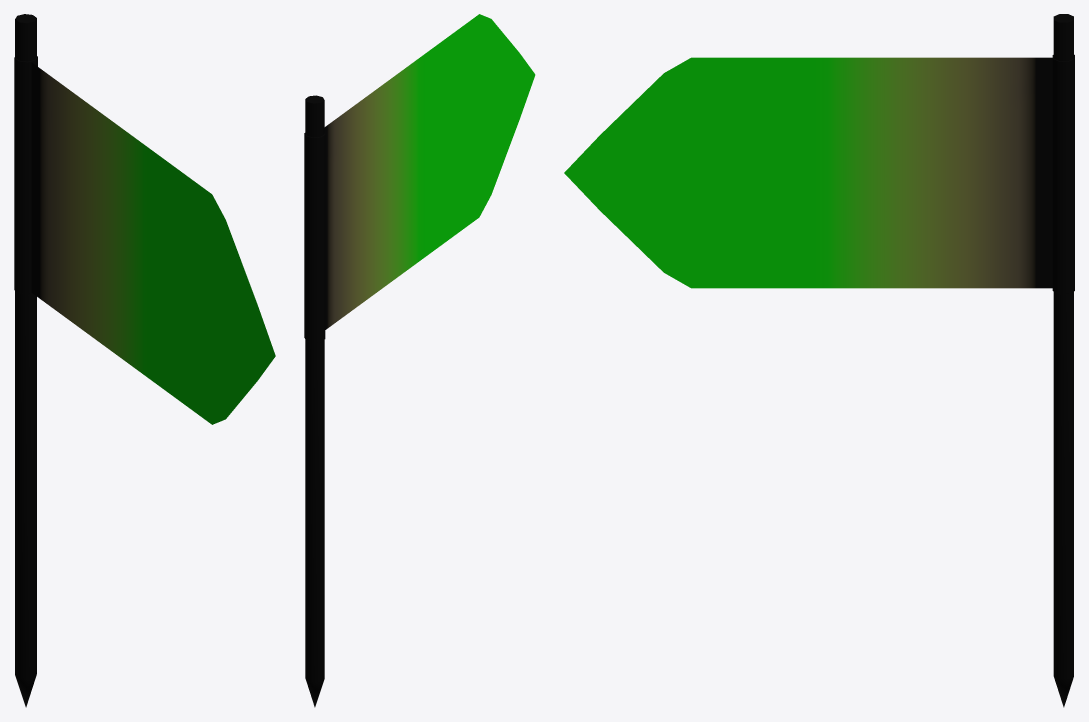
Rendered from TTFEFlag_Small.fbx.
The picture shows the model from 3 angles, left to right: view 1: azimuth 30°, elevation 25°; view 2: azimuth 150°, elevation 25°; view 3: azimuth 270°, elevation 25°; orthographic projection. The views are drawn at different scales.
Parts seen in each view (by area): view 1: TTFEFlag_Small; view 2: TTFEFlag_Small; view 3: TTFEFlag_Small.
Part boxes in pixels (x1,y1,x2,y2): TTFEFlag_Small: (14, 14, 275, 707); TTFEFlag_Small: (304, 14, 535, 707); TTFEFlag_Small: (564, 14, 1074, 707).
Size of the model in its own units: 0.0296 by 1.02 by 0.6831.
